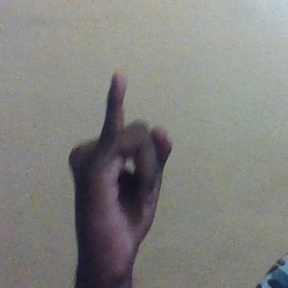I: (62, 70, 178, 274)
